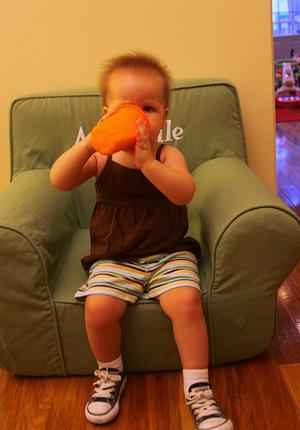person: (46, 44, 233, 430)
